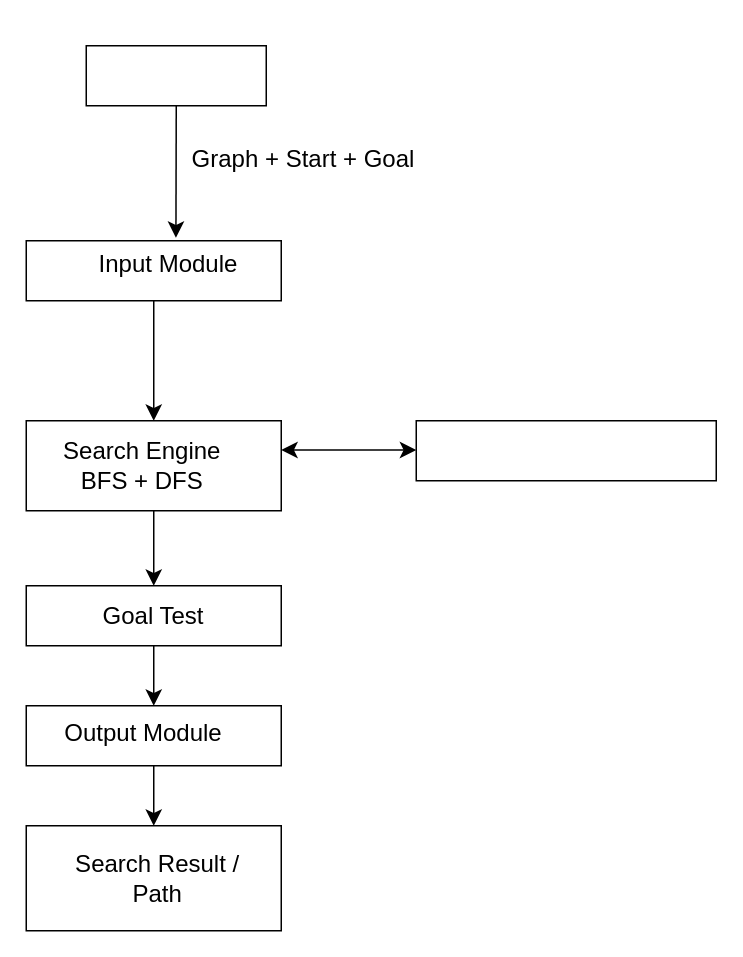
This 743x957 diagram has some shape labels left out. Each missing label, with the centre of its shape:
User: point (175, 75)
Visited Set / Memory: point (565, 450)
